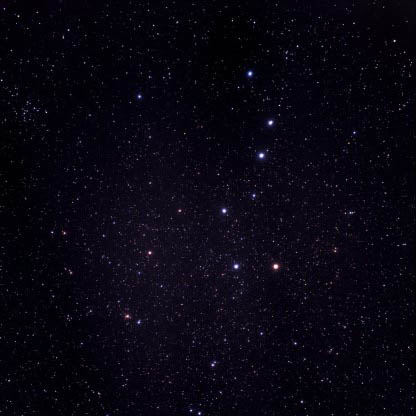Ursa Major: (266, 108, 298, 136), (253, 143, 281, 167), (268, 249, 290, 277), (242, 59, 261, 88), (213, 196, 234, 221), (226, 254, 246, 275), (245, 187, 263, 206)
